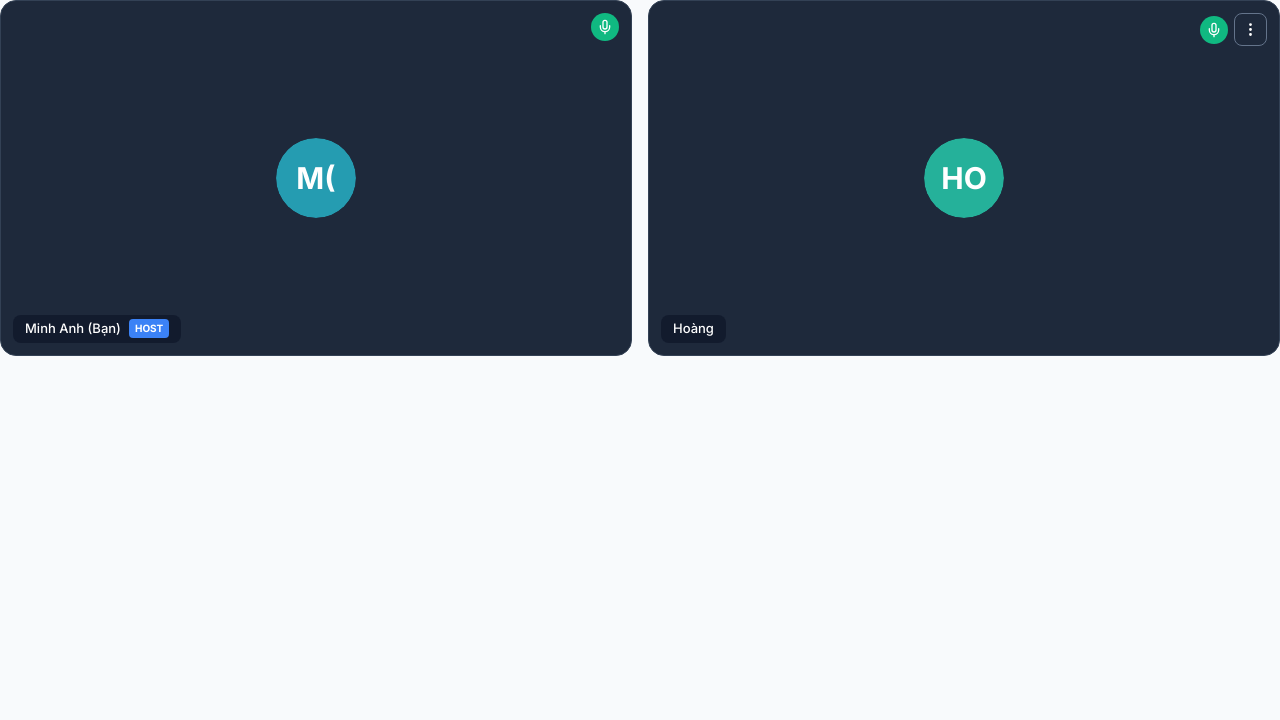
in-call moderation controls › confirms a kick before issuing the backend action
Later steps or results of the test are not shown.
Click the button named "Điều hành Hoàng" at (1250, 30), box [1234,13,1267,46]
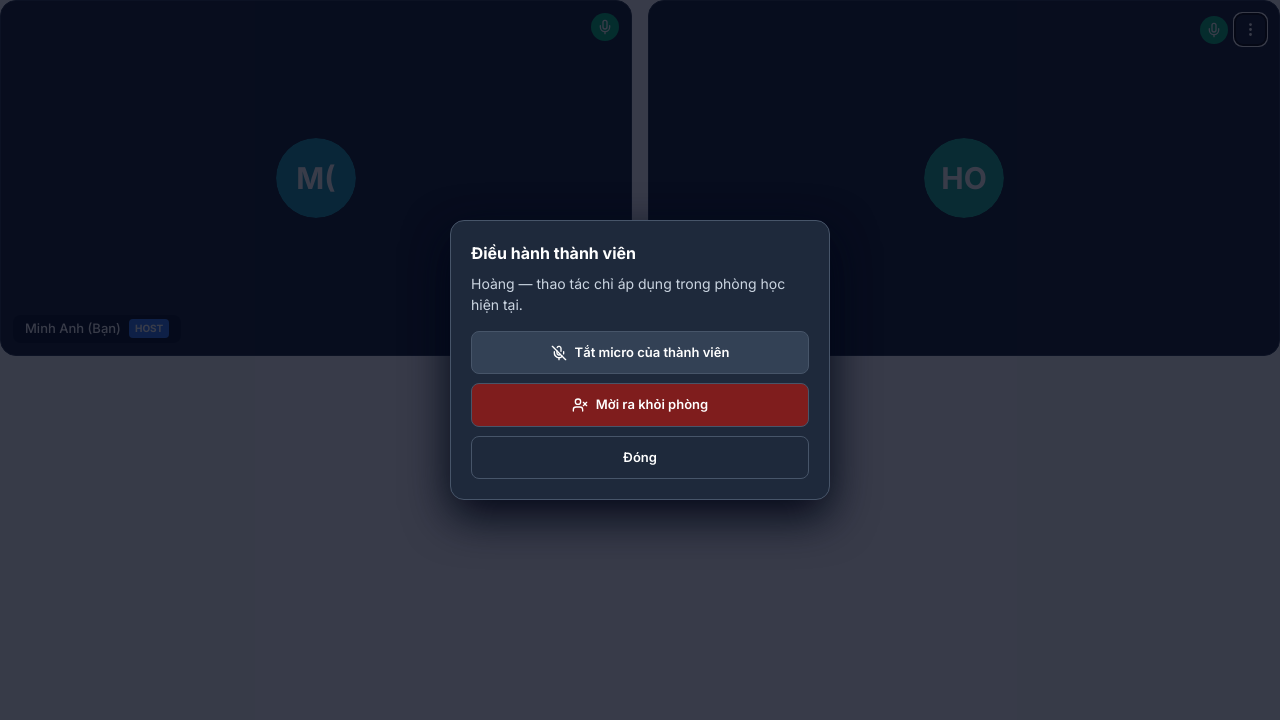
Click the button "Mời ra khỏi phòng" at (640, 405), box [471,383,809,427]
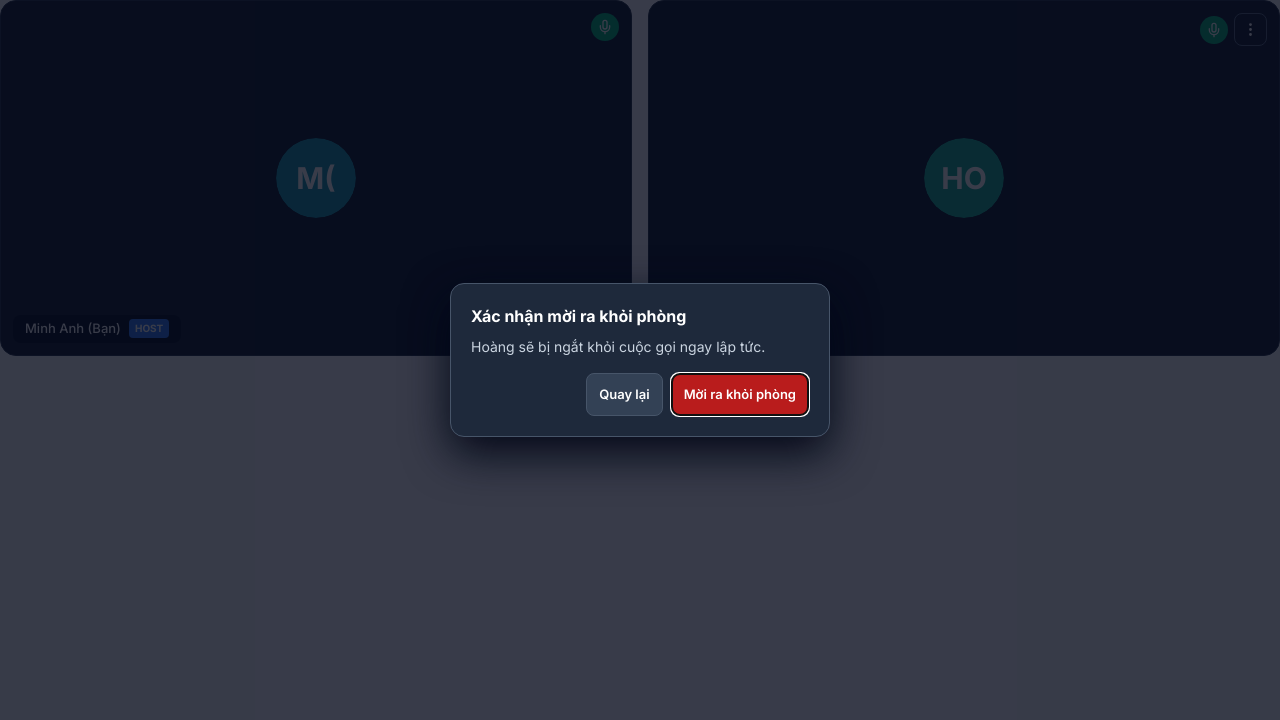
expect the text "Xác nhận mời ra khỏi phòng" is shown: met, box [471,306,686,326]
